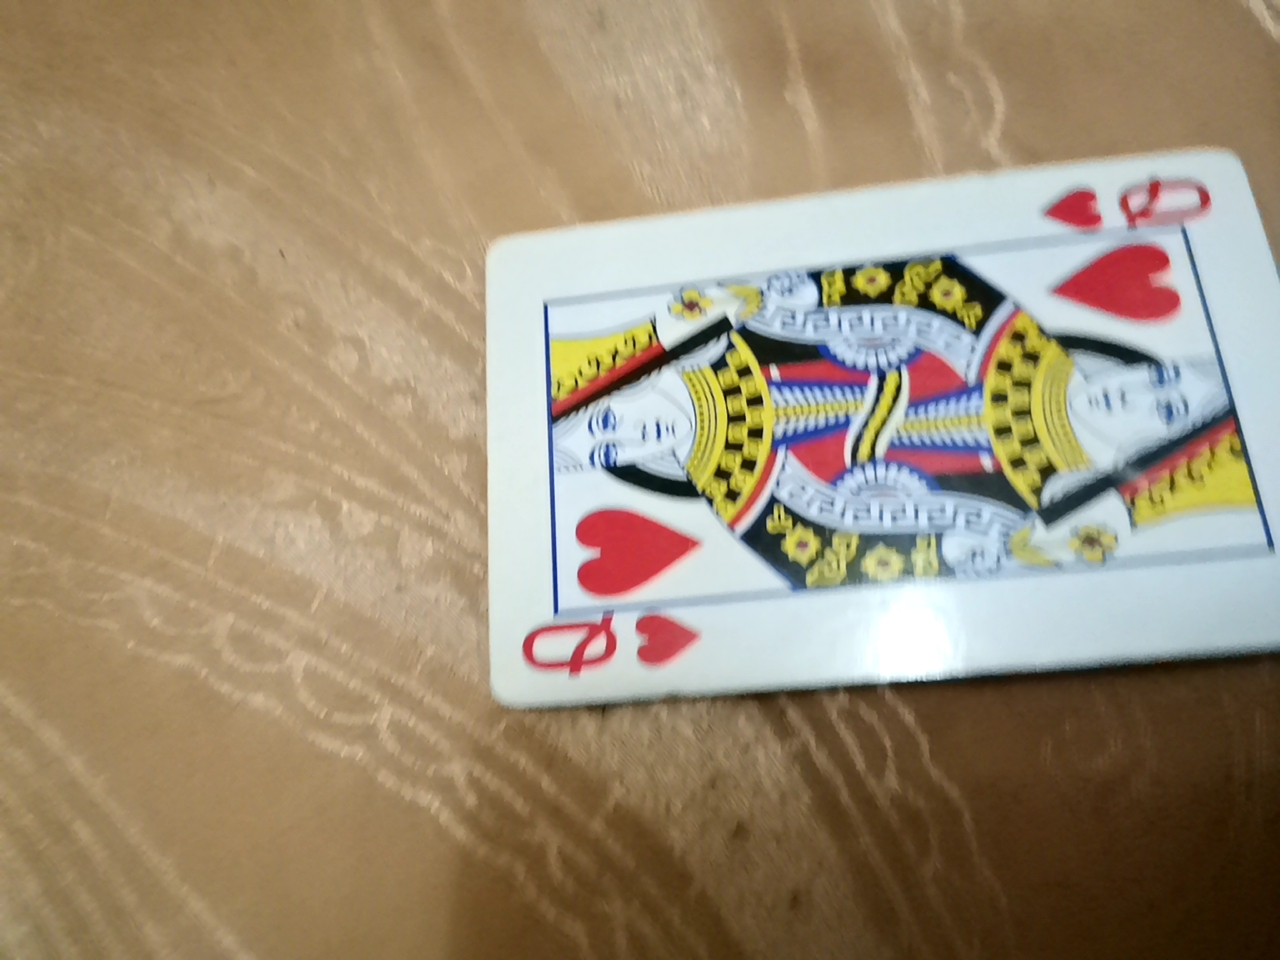hx q: (467, 202, 1277, 768)
